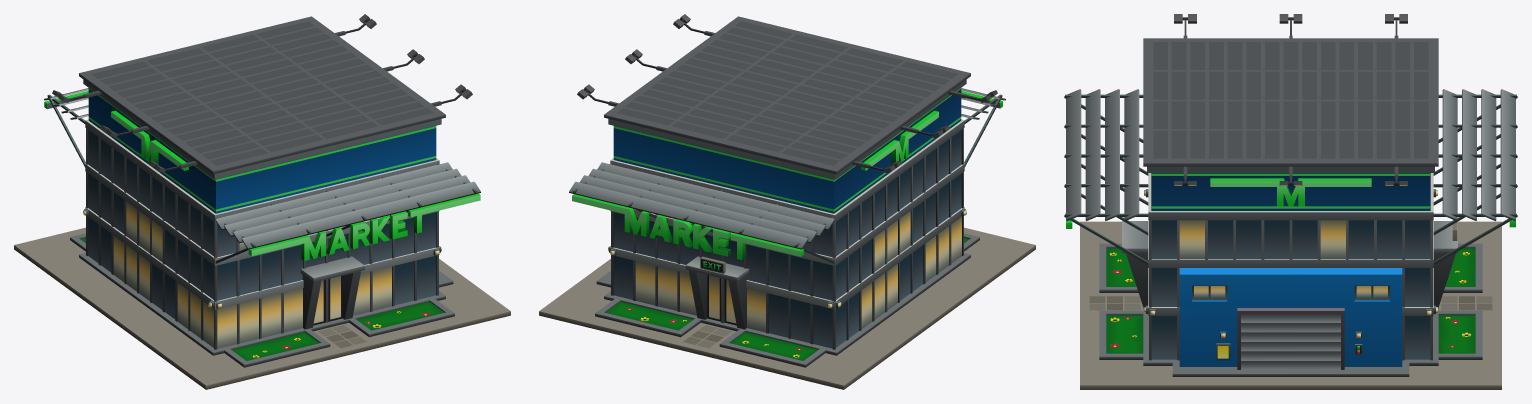
The model's file is Building_17D.fbx.
3 renders of one model, left to right at view 1: azimuth 30°, elevation 25°; view 2: azimuth 150°, elevation 25°; view 3: azimuth 270°, elevation 25°, orthographic. The views are drawn at different scales.
Parts seen in each view (by area): view 1: Building_17D, Window_Lights_17D, Logo_17D; view 2: Building_17D, Window_Lights_17D, Logo_17D; view 3: Building_17D, Window_Lights_17D, Logo_17D.
Boxes of the visible parts, x1=… form: Building_17D: x1=14, y1=14, x2=510, y2=389; Window_Lights_17D: x1=113, y1=201, x2=391, y2=348; Logo_17D: x1=44, y1=91, x2=480, y2=260; Building_17D: x1=539, y1=14, x2=1035, y2=389; Window_Lights_17D: x1=635, y1=211, x2=961, y2=332; Logo_17D: x1=572, y1=91, x2=1002, y2=260; Building_17D: x1=1064, y1=14, x2=1517, y2=389; Window_Lights_17D: x1=1179, y1=220, x2=1387, y2=297; Logo_17D: x1=1066, y1=178, x2=1515, y2=228.
Size of the model in its own units: 2271 by 1321 by 2578.
